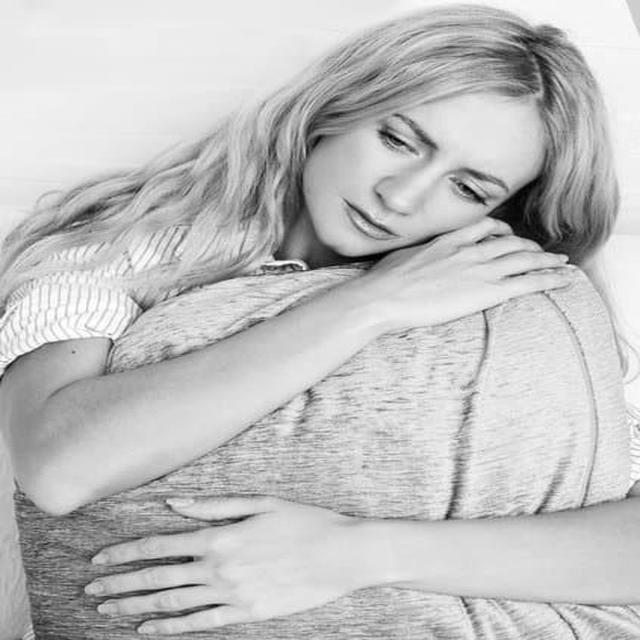Sadness: (312, 99, 538, 256)
